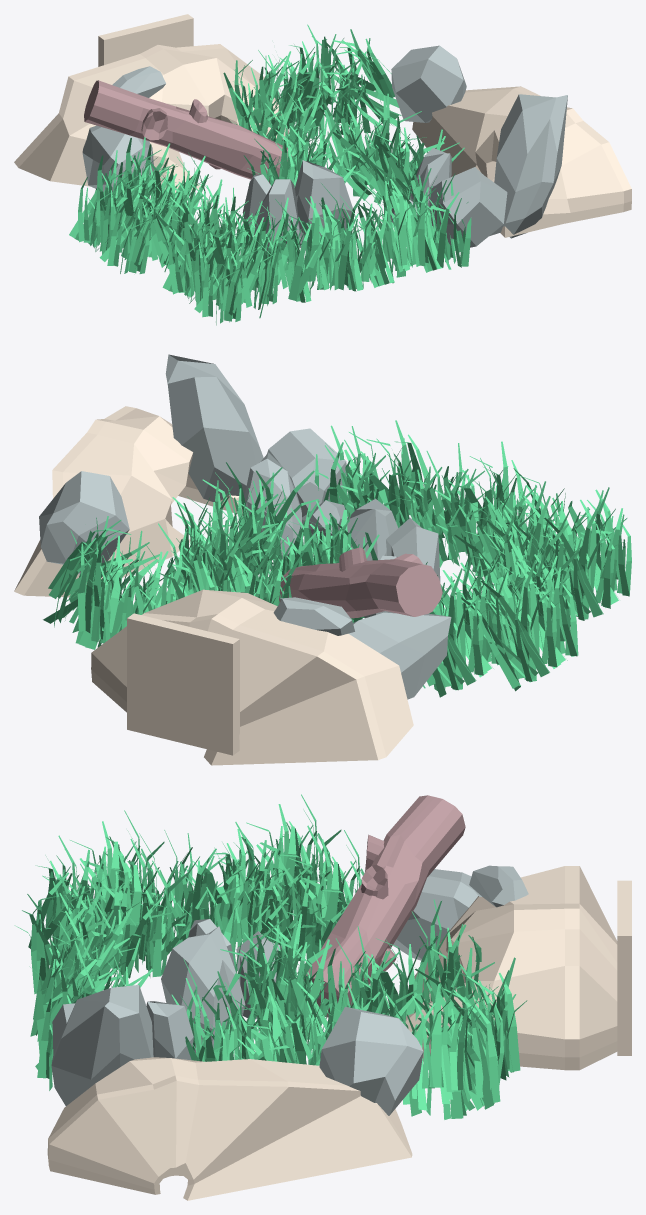
File: 042720map1shadowCasters.gltf
The picture shows the model from 3 angles, top to bottom: view 1: azimuth 30°, elevation 25°; view 2: azimuth 150°, elevation 25°; view 3: azimuth 270°, elevation 25°; orthographic projection. The views are drawn at different scales.
Visible parts, largest first — view 1: Cube.005, Cube.020, Cube.003, Cube.022, Cube.021, Cube.009, Cube.007, Cube.001, Cube.004, Cube, Cube.010, Cube.008 (+5 smaller); view 2: Cube.005, Cube.020, Cube.007, Cube.022, Cube.003, Cube.021, Cube.004, Cube.009, Cube.010, Cube.008, Cube.001, Cube (+3 smaller); view 3: Cube.020, Cube.005, Cube.003, Cube.022, Cube.021, Cube.001, Cube.004, Cube.007, Cube.010, Cube.008, Cube.002, Plane.571 (+3 smaller).
Boxes of the visible parts, x1,y1,x2,y2 form: Cube.005: (14,44,289,192); Cube.020: (412,86,631,237); Cube.003: (84,80,292,183); Cube.022: (494,94,567,238); Cube.021: (391,45,466,122); Cube.009: (428,167,507,247); Cube.007: (98,14,193,66); Cube.001: (295,160,352,250); Cube.004: (82,125,154,191); Cube: (254,179,301,252); Cube.010: (410,148,451,205); Cube.008: (112,66,165,97); Cube.005: (91,589,413,765); Cube.020: (14,406,242,597); Cube.007: (127,613,239,755); Cube.022: (165,354,263,501); Cube.003: (279,547,442,618); Cube.021: (39,471,129,574); Cube.004: (349,612,451,699); Cube.009: (267,428,346,517); Cube.010: (244,452,302,559); Cube.008: (273,597,354,635); Cube.001: (347,499,397,560); Cube: (386,518,440,581); Cube.020: (47,1057,412,1200); Cube.005: (402,866,617,1070); Cube.003: (304,795,465,1017); Cube.022: (51,985,153,1105); Cube.021: (319,1006,423,1115); Cube.001: (161,926,245,1053); Cube.004: (393,869,478,960); Cube.007: (617,880,631,1055); Cube.010: (146,1001,193,1059); Cube.008: (469,865,528,907); Cube.002: (236,931,281,1019); Plane.571: (429,984,441,1087).
Bounding box in the file's own units: 94.14 × 27.21 × 84.3.
